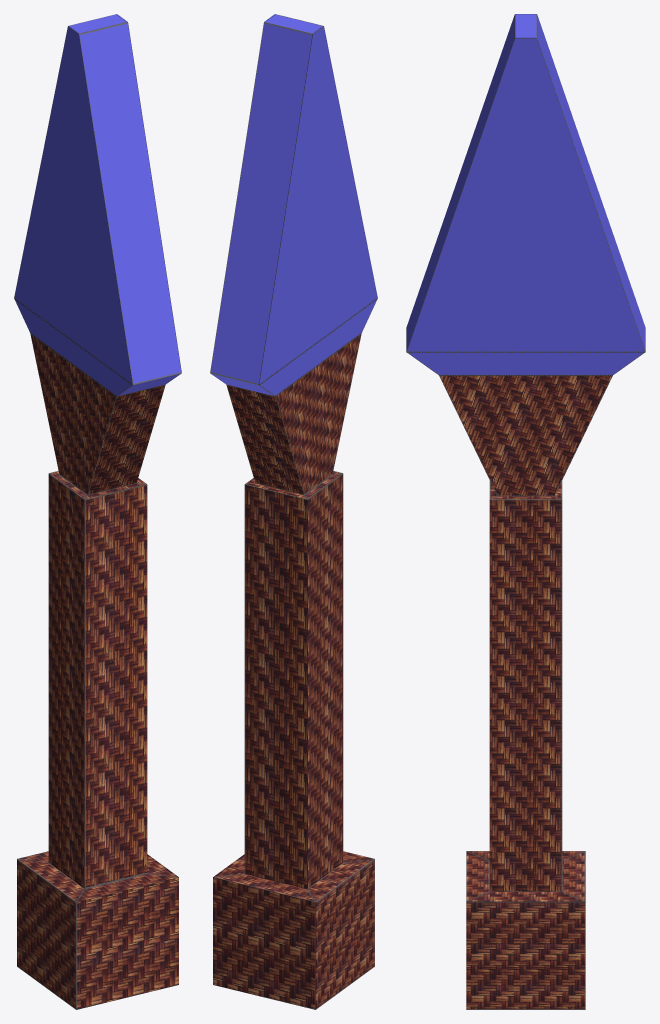
File: Spoon.obj
The picture shows the model from 3 angles, left to right: view 1: azimuth 30°, elevation 25°; view 2: azimuth 150°, elevation 25°; view 3: azimuth 270°, elevation 25°; orthographic projection.
Parts seen in each view (by area): view 1: Cube; view 2: Cube; view 3: Cube.
Boxes of the visible parts, x1=… form: Cube: x1=14, y1=14, x2=181, y2=1009; Cube: x1=210, y1=14, x2=377, y2=1009; Cube: x1=406, y1=14, x2=645, y2=1009.
Bounding box in the file's own units: 2 × 17.69 × 4.
